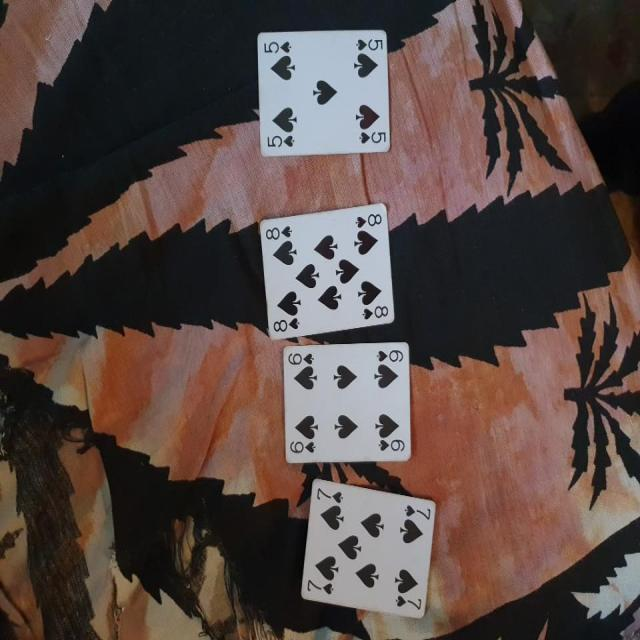5 Spades: (254, 24, 396, 156)
6 Spades: (282, 337, 415, 464)
7 Spades: (298, 480, 443, 629)
8 Spades: (254, 190, 397, 340)
